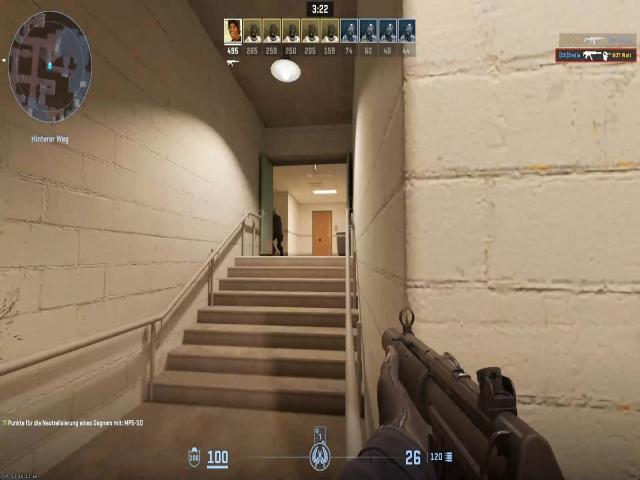Dead: (270, 208, 288, 249)
